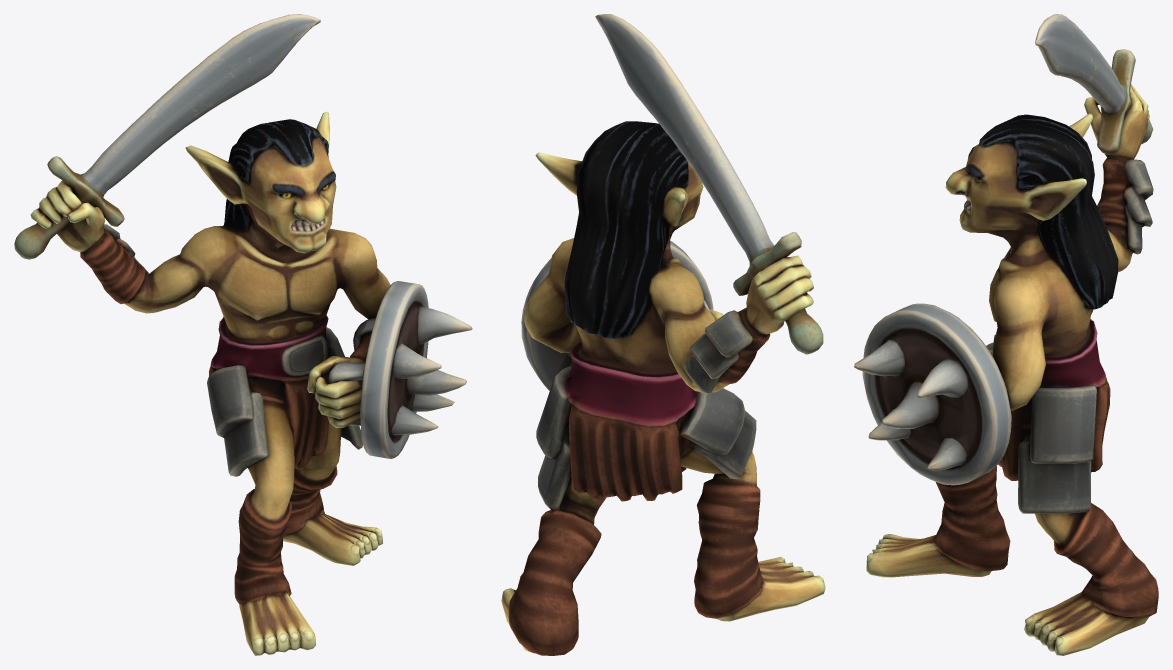
File: MZ4250 - Goblin Melee.glb
3 views of the same model, side by side, from view 1: azimuth 30°, elevation 25°; view 2: azimuth 150°, elevation 25°; view 3: azimuth 270°, elevation 25° (orthographic). The views are drawn at different scales.
Visible parts, largest first — view 1: body_low.001, sword_low.001, shieeld_low.001; view 2: body_low.001, sword_low.001, shieeld_low.001; view 3: body_low.001, shieeld_low.001, sword_low.001.
Boxes of the visible parts, x1=… form: body_low.001: x1=30, y1=111, x2=390, y2=655; sword_low.001: x1=14, y1=14, x2=320, y2=259; shieeld_low.001: x1=328, y1=281, x2=472, y2=458; body_low.001: x1=501, y1=121, x2=825, y2=655; sword_low.001: x1=595, y1=14, x2=823, y2=354; shieeld_low.001: x1=521, y1=240, x2=713, y2=390; body_low.001: x1=866, y1=84, x2=1158, y2=655; shieeld_low.001: x1=854, y1=303, x2=1011, y2=485; sword_low.001: x1=1035, y1=14, x2=1153, y2=154.
Size of the model in its own units: 4.2 by 6.41 by 3.01.
1 material, 1 textured.
